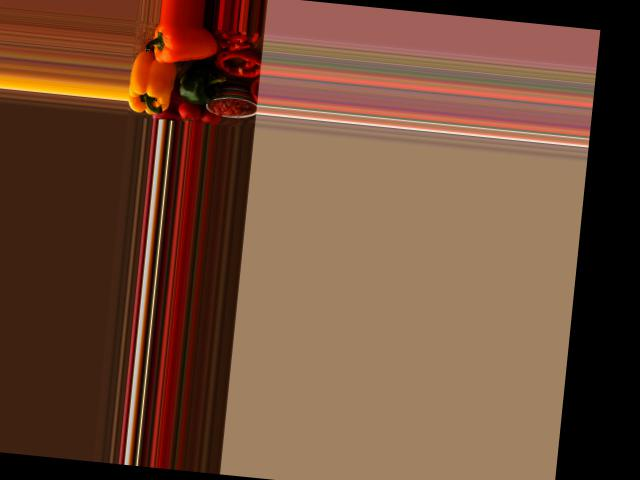bell_pepper: (127, 60, 178, 115)
